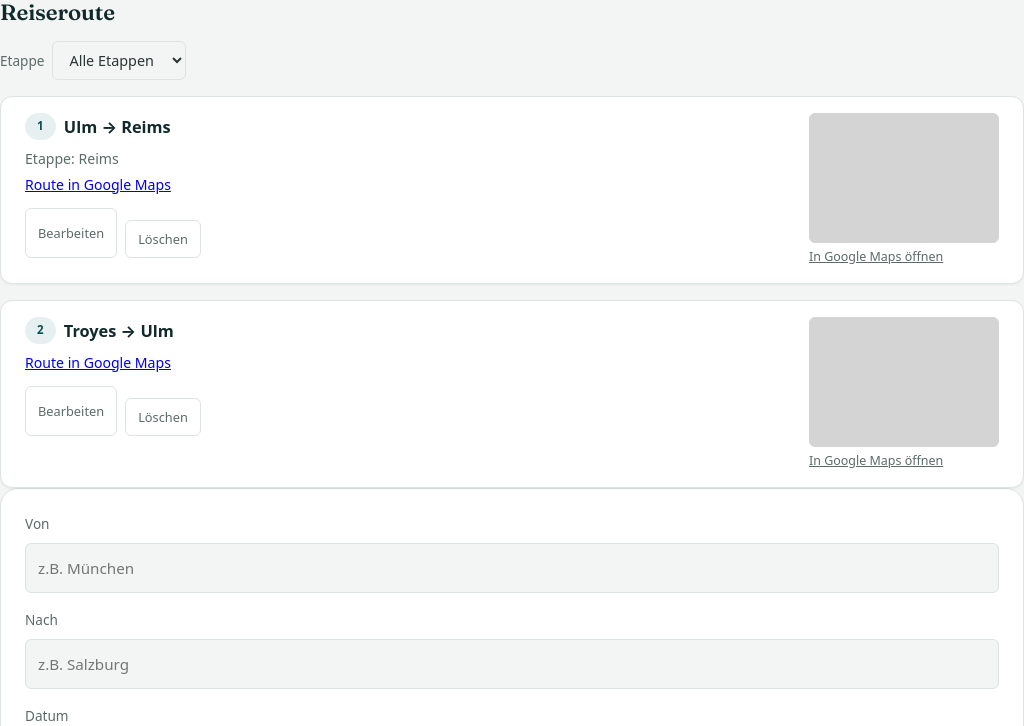
it: Etappen-Filter im Bereich Reiseroute › Nutzerpfad: Etappe waehlen -> nur die zugeordneten Eintraege bleiben sichtbar
Expected: the text "Ulm → Reims" is shown, [64,114,171,140]
Select "Reims" in the dropdown labelled "Etappe" at (120, 61), box [52,42,186,80]
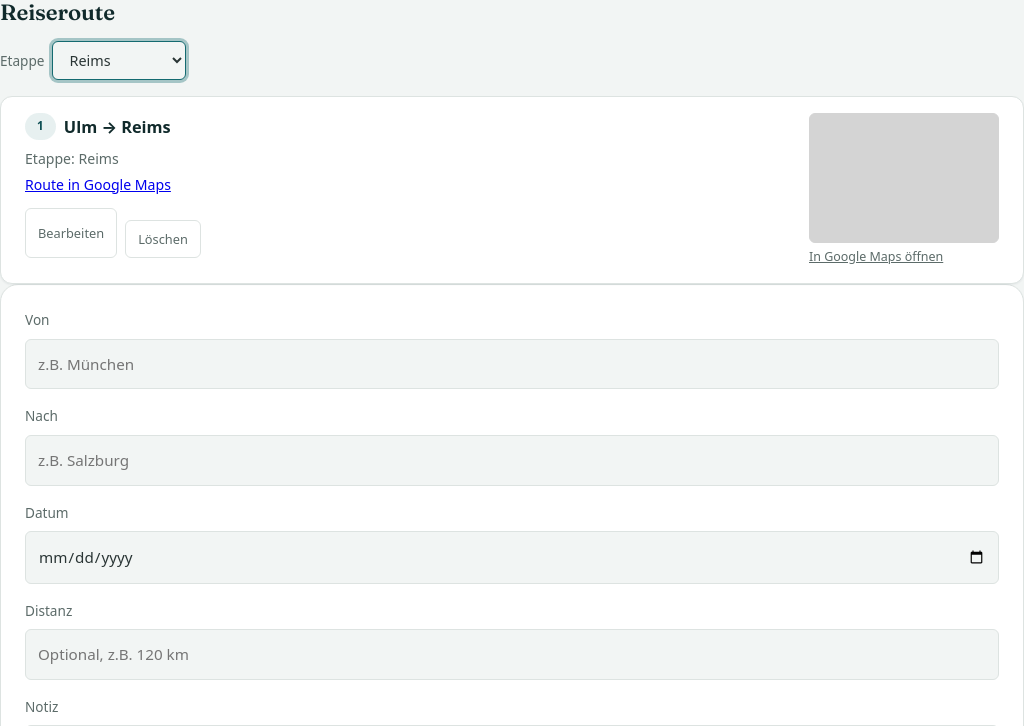
Expected: the text "Ulm → Reims" is shown, [64,114,171,140]
Expected: the text "Troyes → Ulm" is gone
